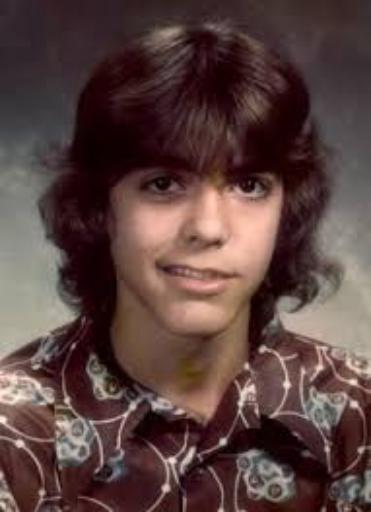left_eye: (229, 174, 274, 203)
left_lip_corner: (228, 270, 244, 287)
right_eye: (141, 176, 189, 200)
right_lip_corner: (149, 257, 172, 280)
